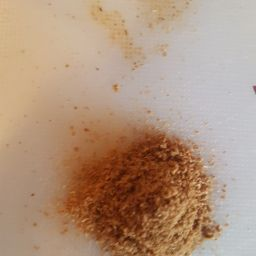Corriander powder: (33, 61, 215, 256), (59, 104, 243, 256)
